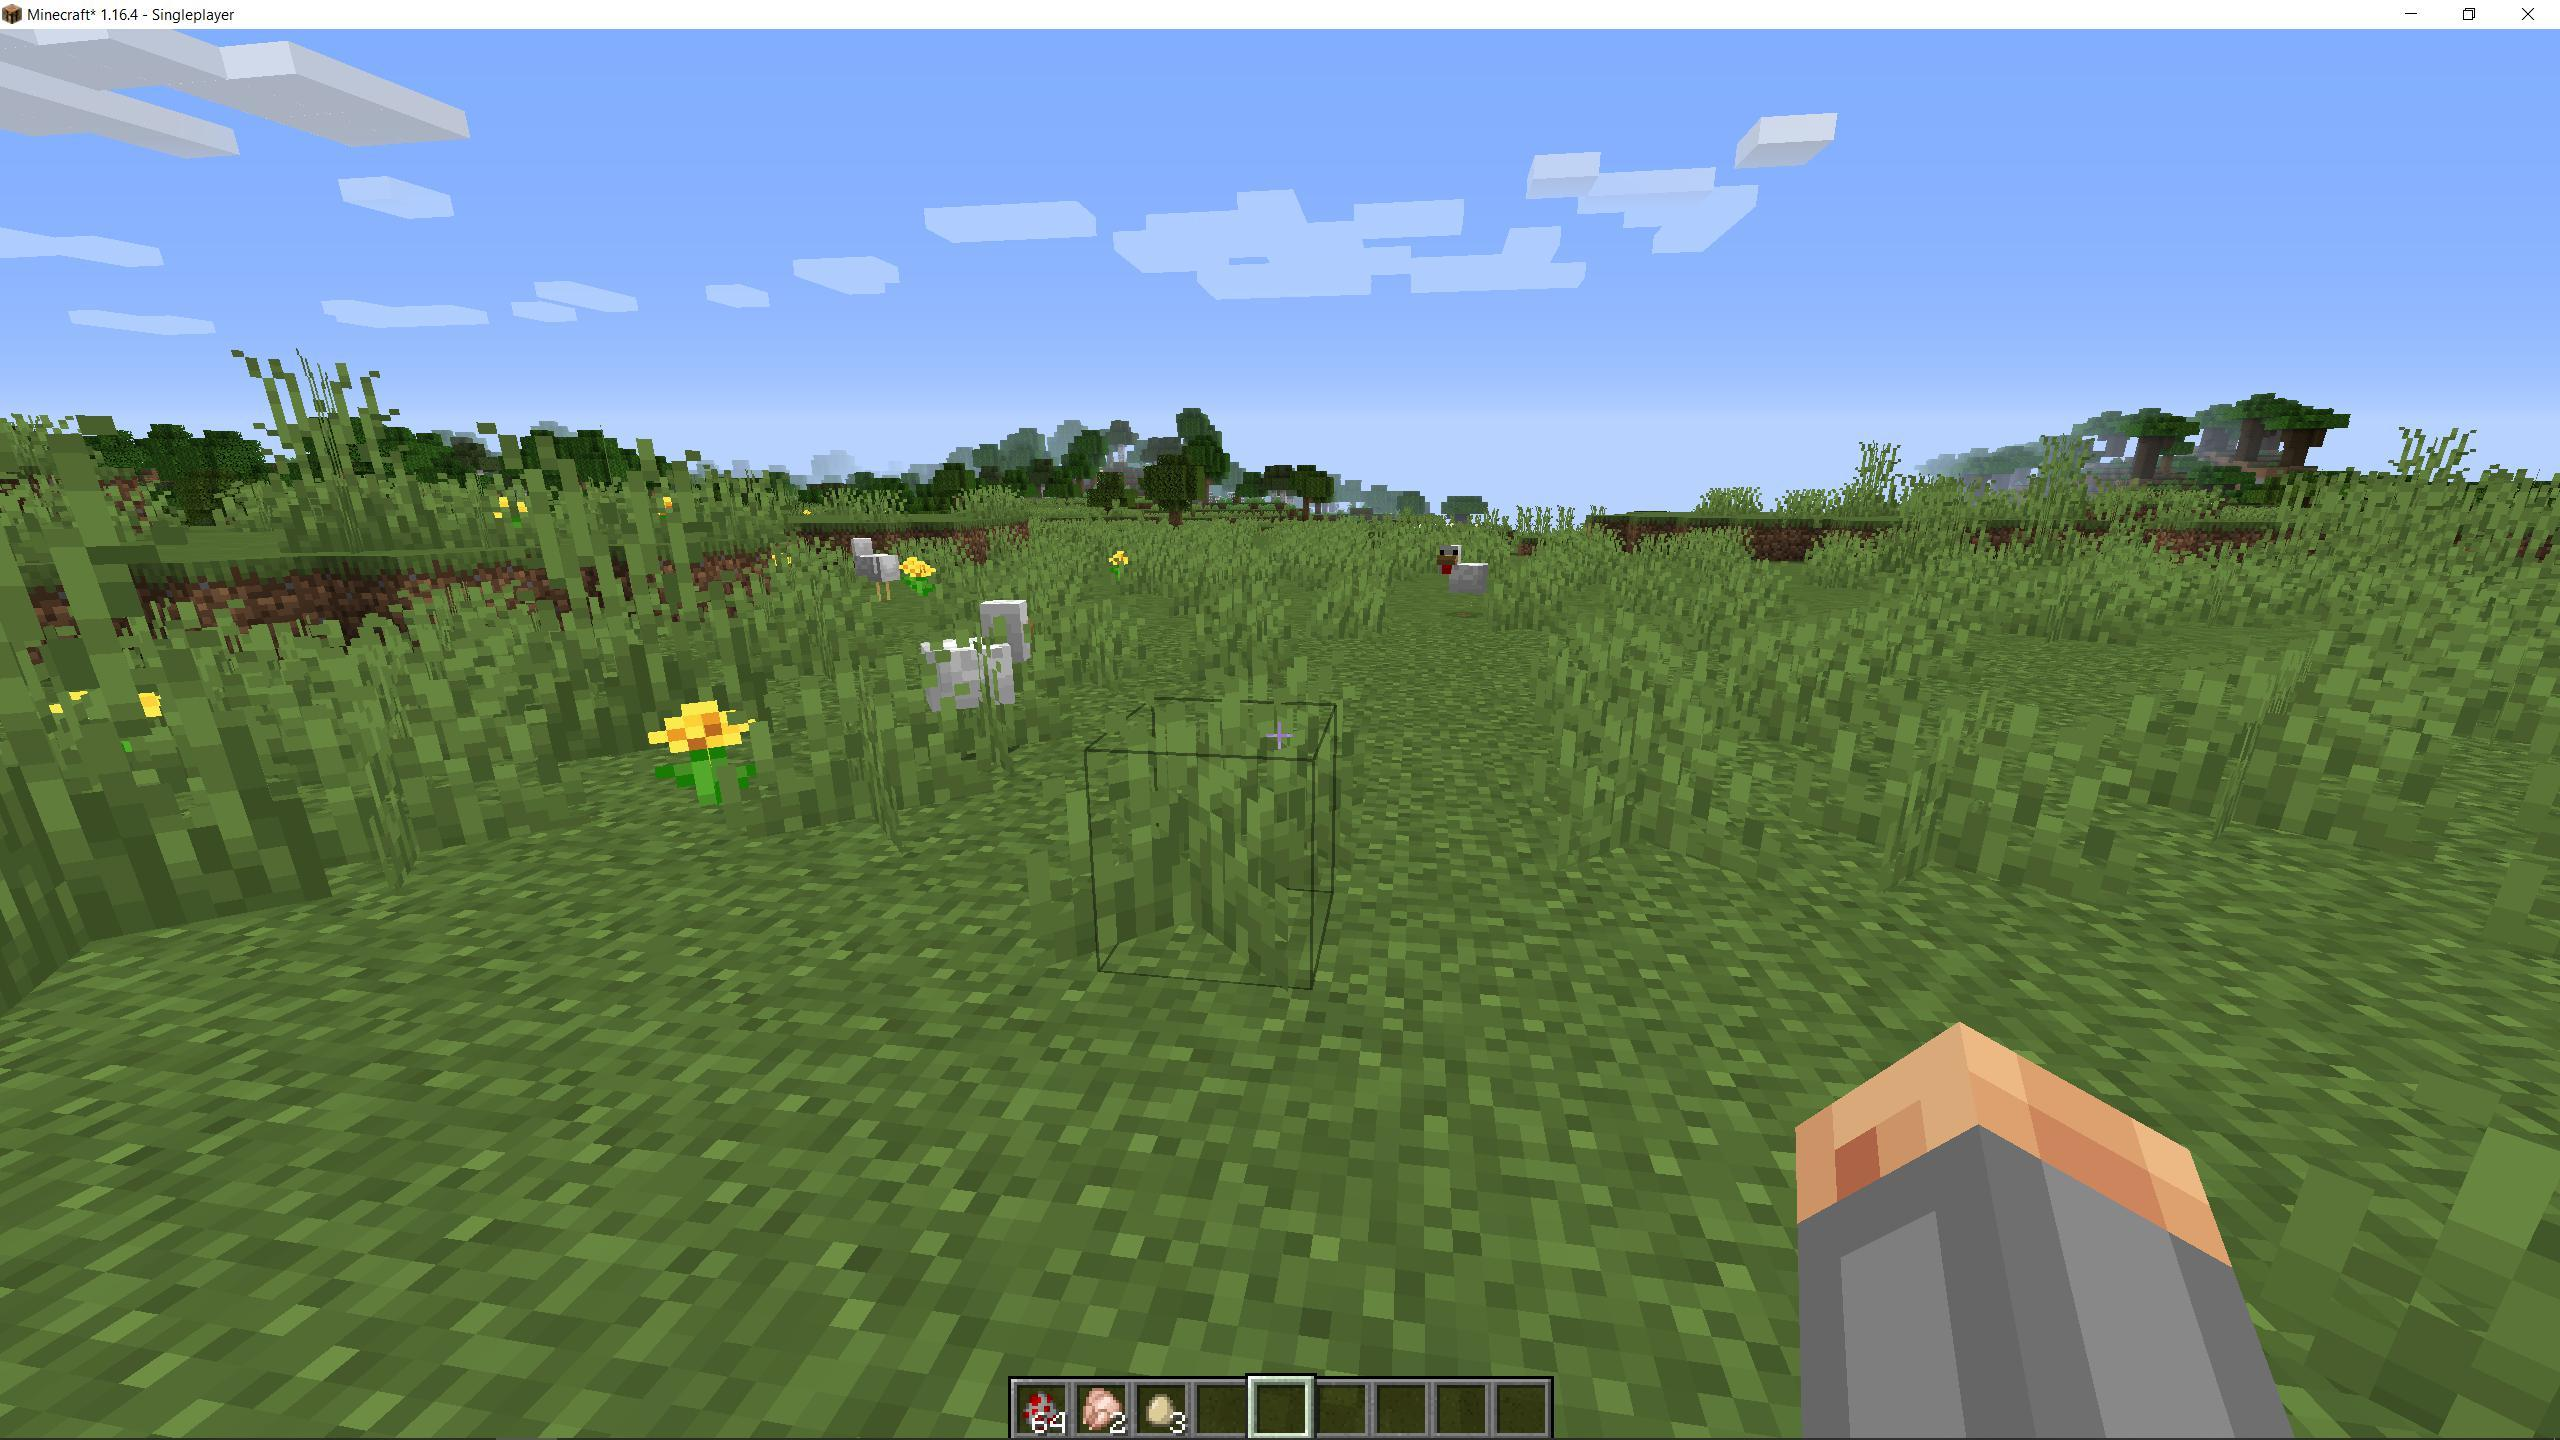chicken: (921, 598, 1041, 740), (1426, 533, 1505, 628), (833, 529, 920, 610)
